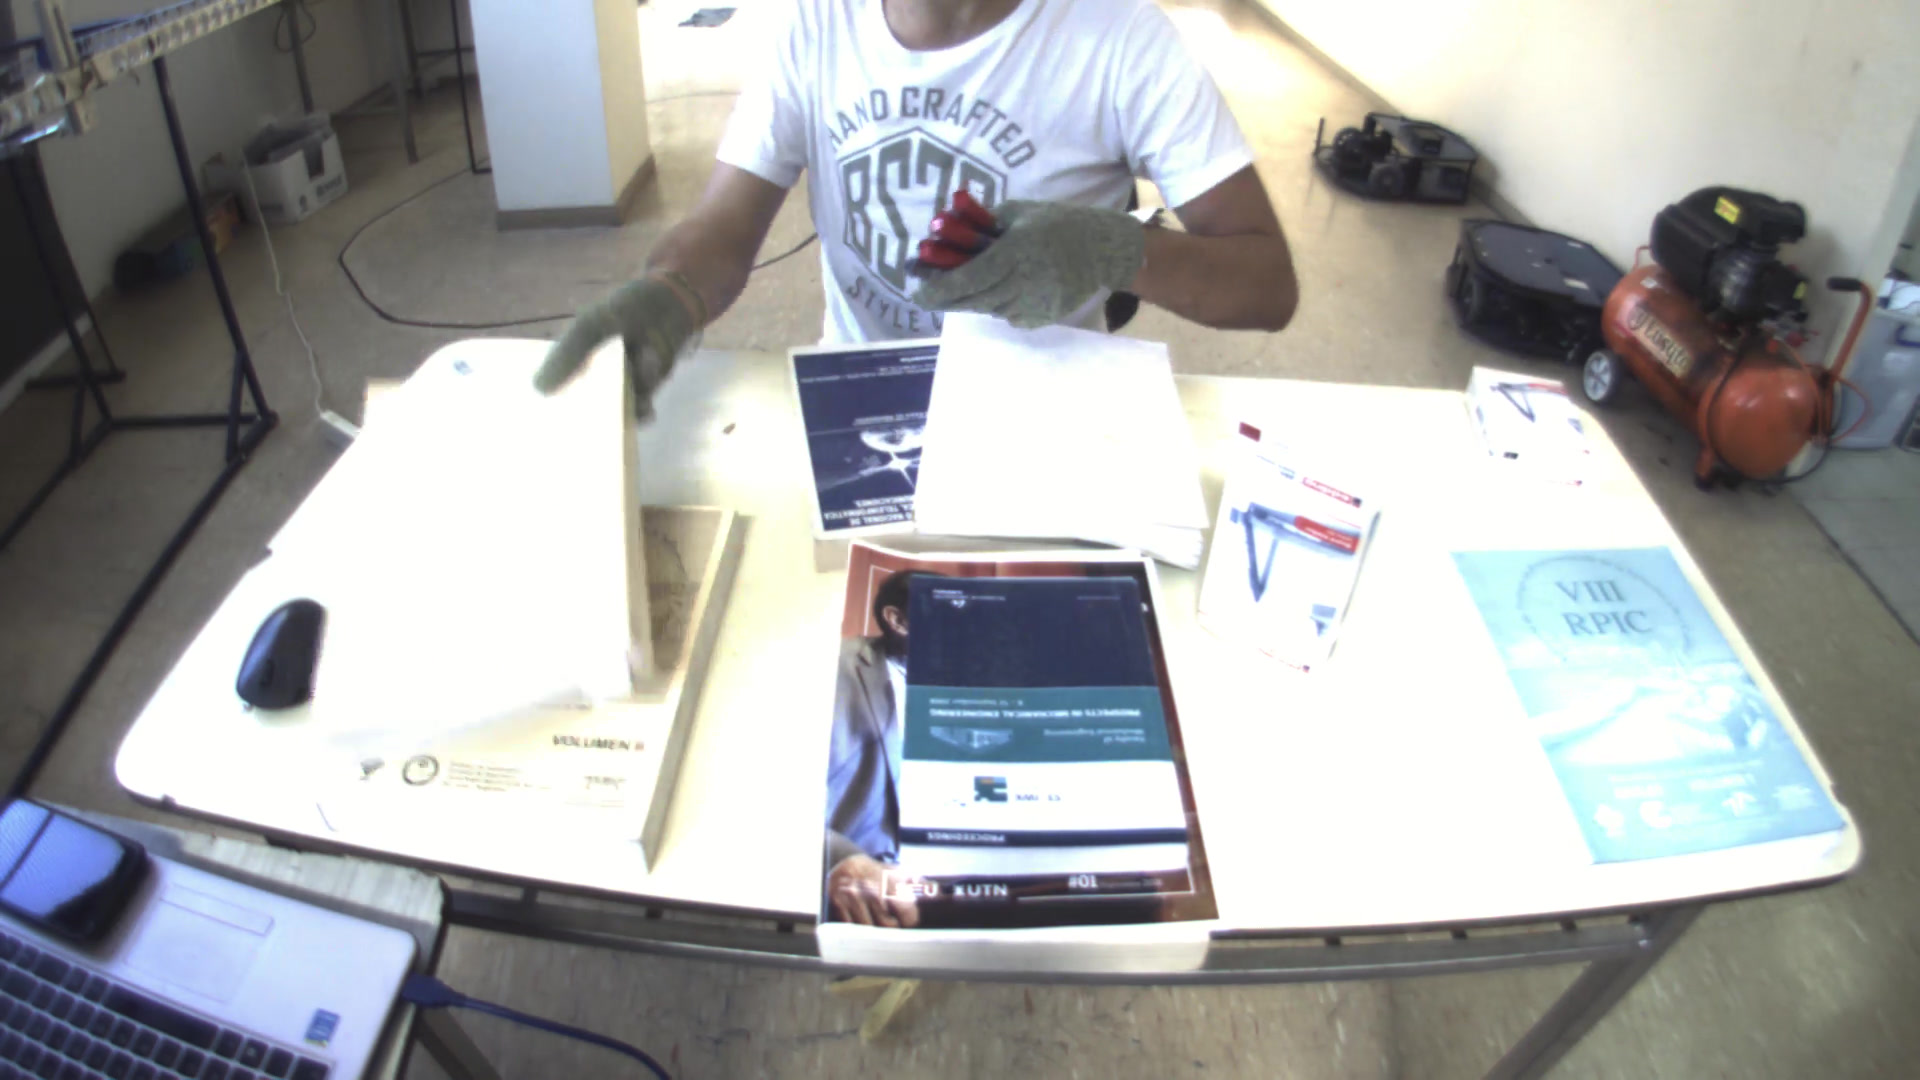hand: (895, 181, 1150, 330), (518, 258, 703, 413)
